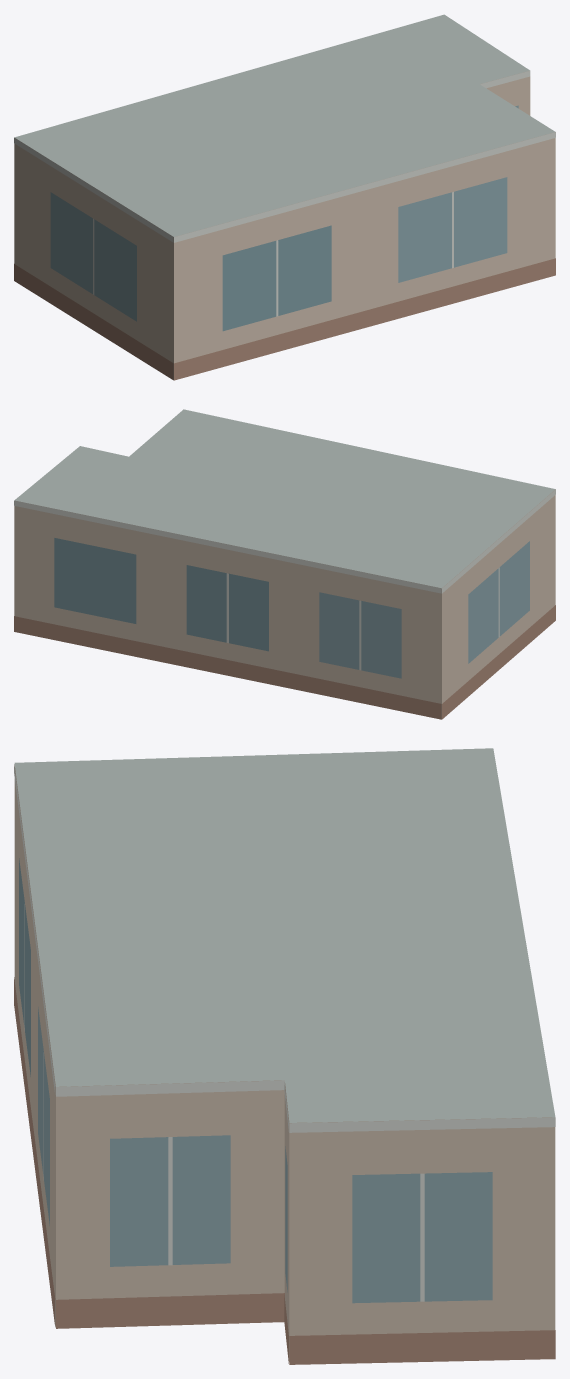
The model's file is survey-upis-32637959.glb.
3 renders of one model, top to bottom at view 1: azimuth 30°, elevation 25°; view 2: azimuth 150°, elevation 25°; view 3: azimuth 270°, elevation 25°, orthographic. The views are drawn at different scales.
Parts seen in each view (by area): view 1: survey-upis-32637959.tmp; view 2: survey-upis-32637959.tmp; view 3: survey-upis-32637959.tmp.
Part boxes in pixels (<box>): survey-upis-32637959.tmp: <box>14,14,555,380</box>; survey-upis-32637959.tmp: <box>14,409,555,719</box>; survey-upis-32637959.tmp: <box>14,748,555,1364</box>.
Bounding box in the file's own units: 10.15 × 3.05 × 6.2.
